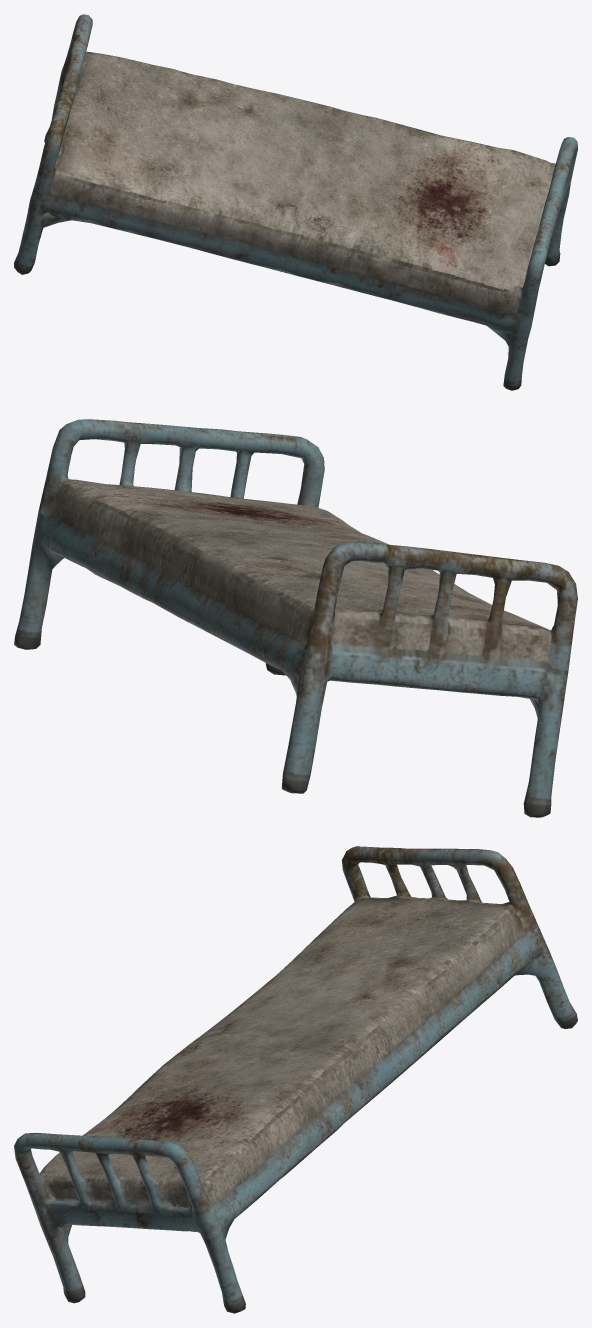
File: bunker_medical_cot_raw.glb
3 renders of one model, top to bottom at view 1: azimuth 30°, elevation 25°; view 2: azimuth 150°, elevation 25°; view 3: azimuth 270°, elevation 25°, orthographic. The views are drawn at different scales.
Bounding box in the file's own units: 0.8774 × 0.5272 × 0.837.
Materials: 1 (1 with a texture image).
